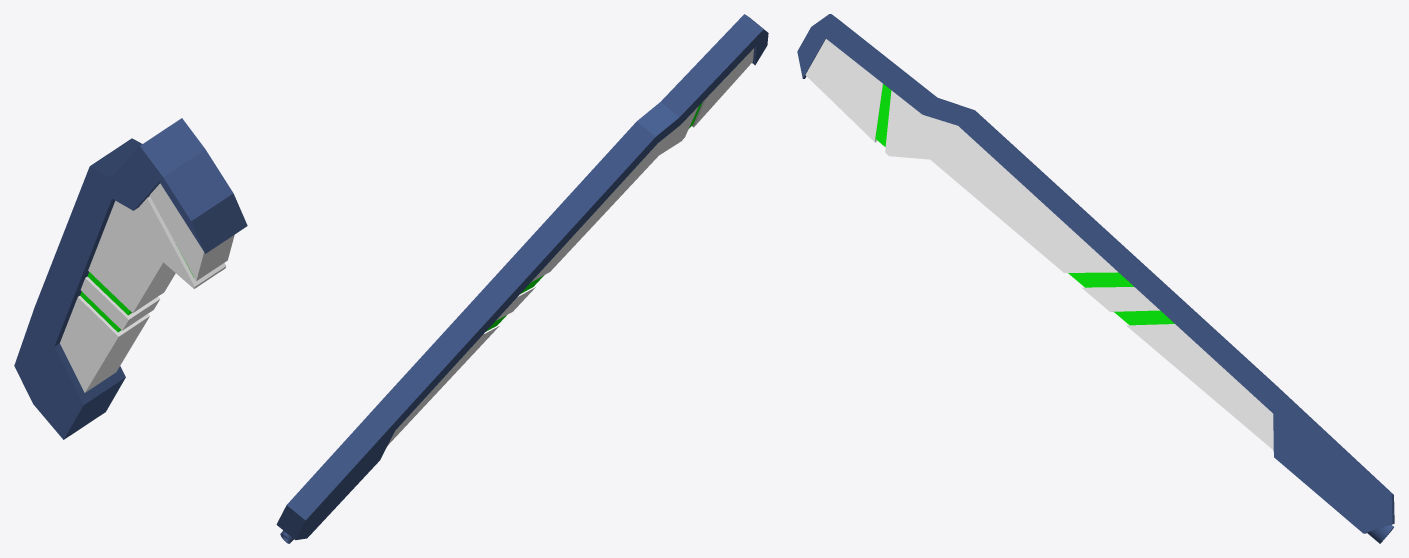
File: Idle_Bit_L_02.fbx
3 views of the same model, side by side, from view 1: azimuth 30°, elevation 25°; view 2: azimuth 150°, elevation 25°; view 3: azimuth 270°, elevation 25° (orthographic). The views are drawn at different scales.
Visible parts, largest first — view 1: Cube.023, Cube.024, Cube.022; view 2: Cube.023, Cube.024; view 3: Cube.023, Cube.024, Cube.022.
Boxes of the visible parts, x1,y1,x2,y2 form: Cube.023: (14,118,247,439); Cube.024: (60,183,234,392); Cube.022: (80,272,131,332); Cube.023: (276,14,768,540); Cube.024: (388,48,753,444); Cube.023: (797,14,1394,533); Cube.024: (805,39,1273,449); Cube.022: (1068,272,1174,325).
Size of the model in its own units: 55.09 by 90 by 115.
